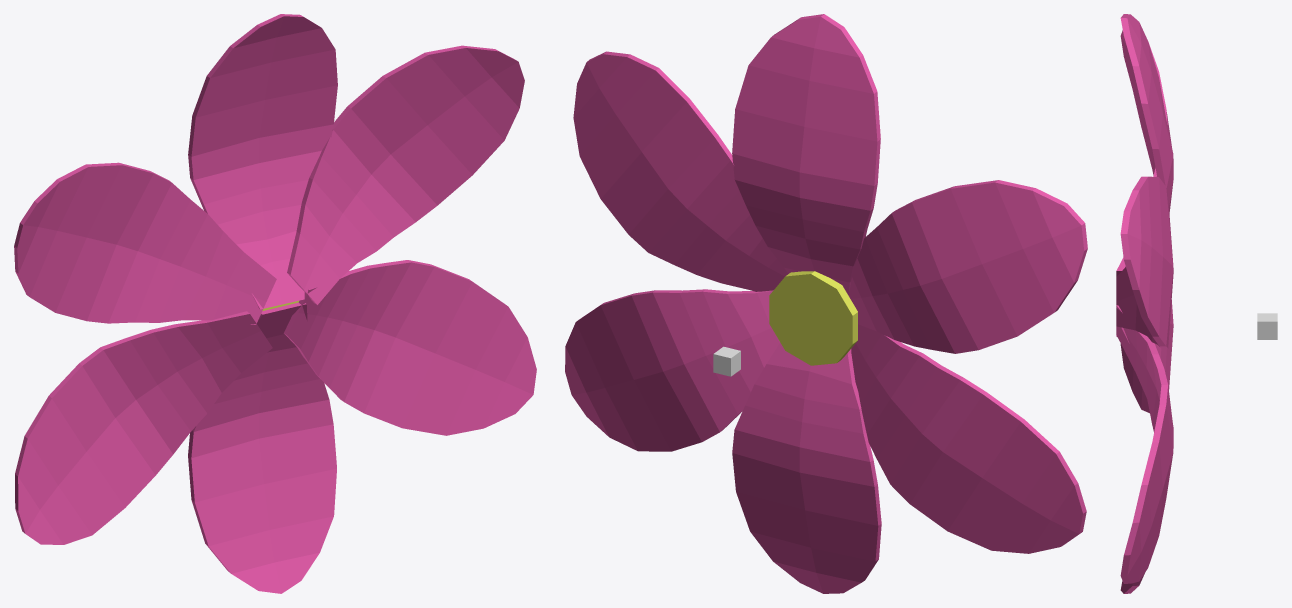
Rendered from Flower.fbx.
The picture shows the model from 3 angles, left to right: view 1: azimuth 30°, elevation 25°; view 2: azimuth 150°, elevation 25°; view 3: azimuth 270°, elevation 25°; orthographic projection.
Parts seen in each view (by area): view 1: Flower; view 2: Flower, Cube; view 3: Flower, Cube.
Boxes of the visible parts, bbox=[...] form: Flower: bbox=[14, 14, 536, 593]; Flower: bbox=[565, 14, 1087, 593]; Cube: bbox=[713, 346, 740, 376]; Flower: bbox=[1116, 14, 1173, 593]; Cube: bbox=[1257, 313, 1277, 339].
Size of the model in its own units: 5900 by 6262 by 1594.
